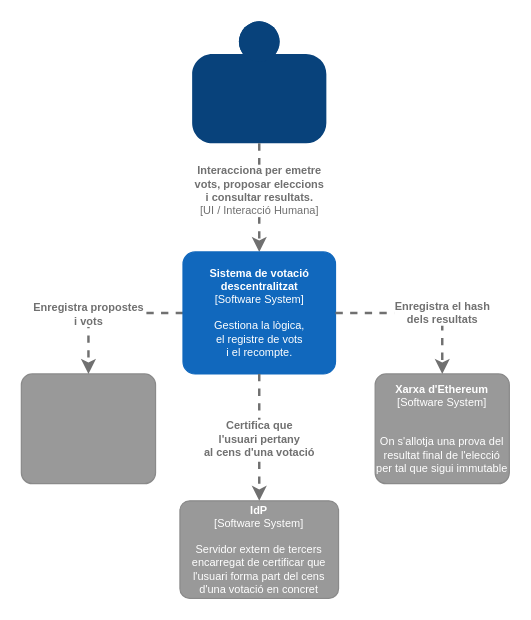
This 531x620 diagram has some shape labels left out. Each missing label, with the centre of its shape:
"Votant [Person] Interactua amb la interfície per proposar o votar eleccions" goes at (259,82).
"Xarxa d'Algorand [Software System] On s'allotja tota la lògica de les votacions" goes at (88,428).
